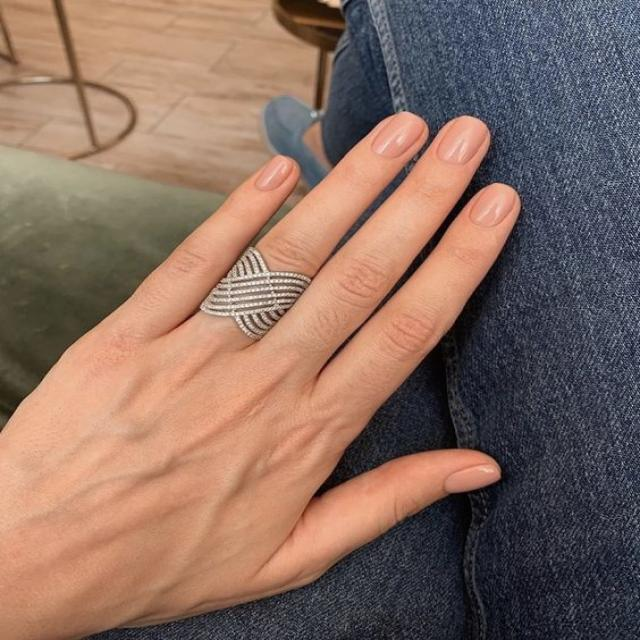Fingernail: (437, 116, 487, 166), (371, 113, 424, 157), (470, 183, 515, 229), (445, 465, 500, 494), (256, 155, 292, 190)
